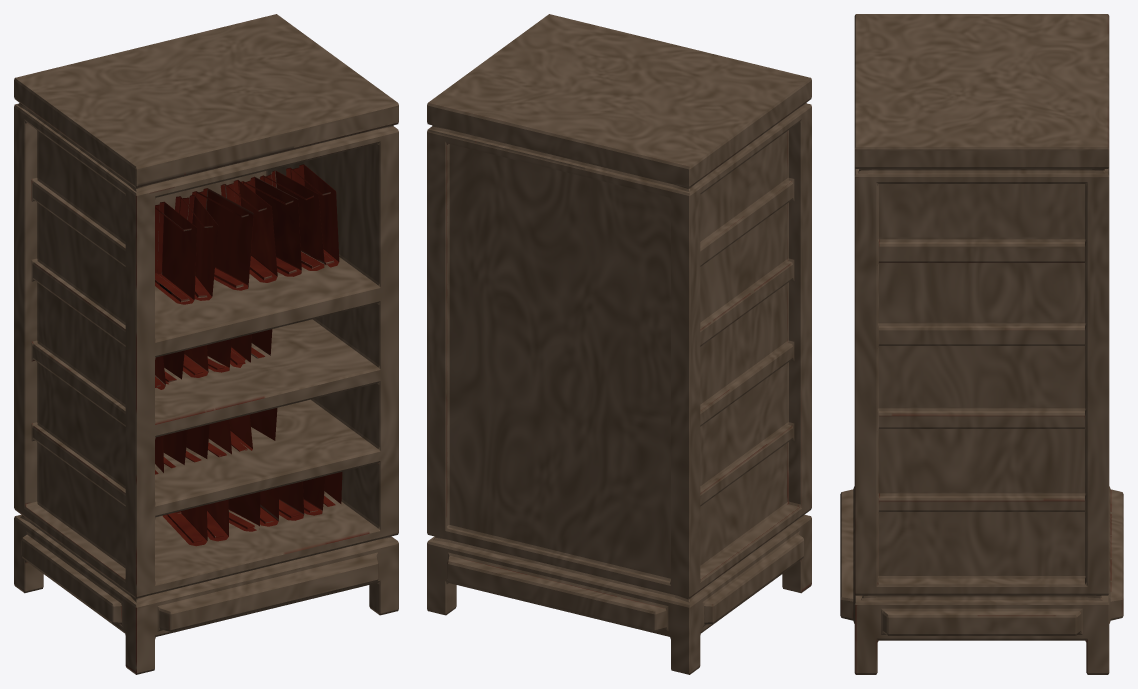
The model's file is shelf2.gltf.
3 views of the same model, side by side, from view 1: azimuth 30°, elevation 25°; view 2: azimuth 150°, elevation 25°; view 3: azimuth 270°, elevation 25° (orthographic). The views are drawn at different scales.
Parts seen in each view (by area): view 1: Cube; view 2: Cube; view 3: Cube.
Part boxes in pixels (x1,y1,x2,y2): Cube: (14,14,398,674); Cube: (427,14,811,674); Cube: (840,14,1123,674).
Bounding box in the file's own units: 2.63 × 4.57 × 2.22.
1 material, 1 textured.
